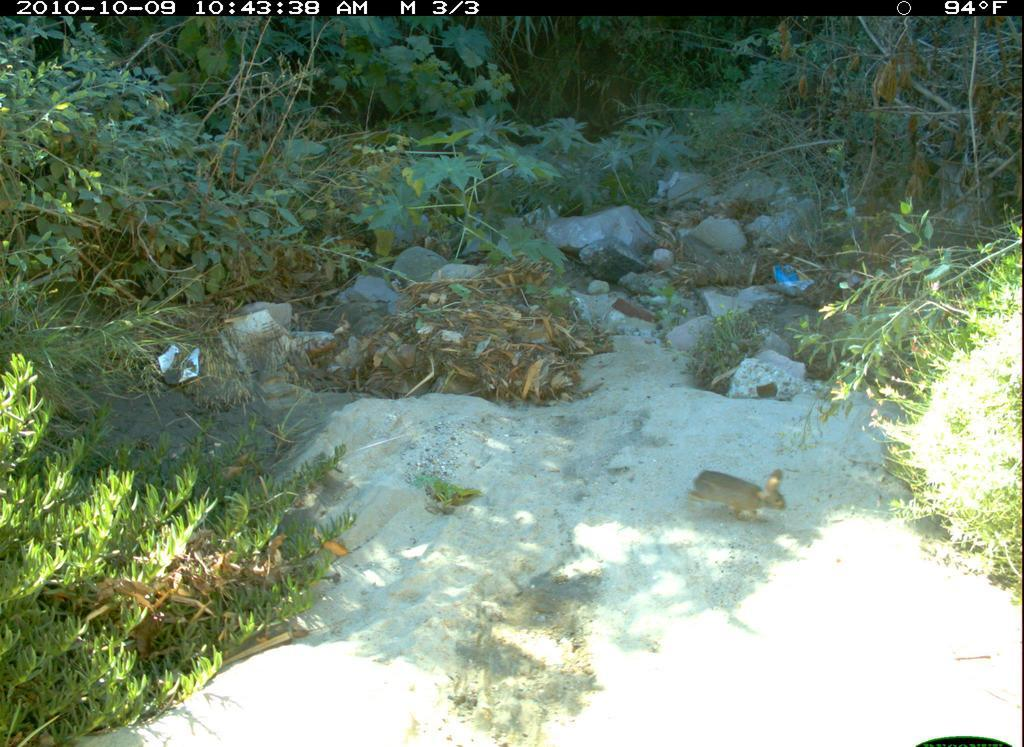rabbit: (667, 460, 806, 545)
